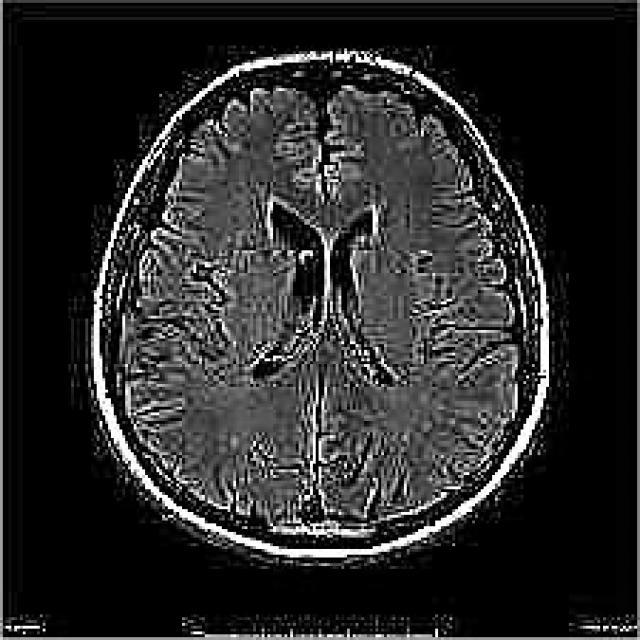notumor: (88, 51, 552, 566)
